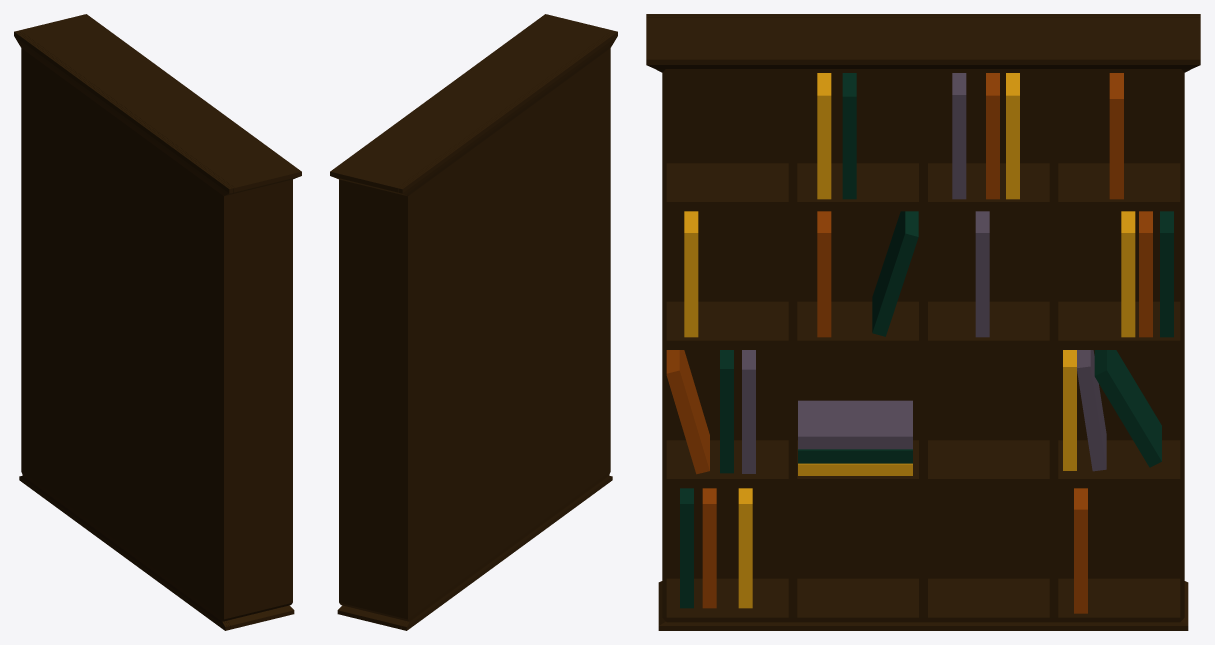
The model's file is biblio.fbx.
3 renders of one model, left to right at view 1: azimuth 30°, elevation 25°; view 2: azimuth 150°, elevation 25°; view 3: azimuth 270°, elevation 25°, orthographic. The views are drawn at different scales.
Parts seen in each view (by area): view 1: case; view 2: case; view 3: case, Cube.024, Cube.021, Cube.002, Cube.009, Cube.020, Cube.003, Cube.004, Cube.008, Cube.011, Cube.012, Cube.014 (+15 smaller).
Part boxes in pixels (x1,y1,x2,y2): case: (14, 14, 301, 630); case: (330, 14, 617, 630); case: (646, 14, 1200, 630); Cube.024: (798, 400, 912, 449); Cube.021: (1094, 350, 1161, 467); Cube.002: (872, 211, 918, 336); Cube.009: (666, 350, 709, 474); Cube.020: (1077, 350, 1106, 471); Cube.003: (684, 211, 698, 337); Cube.004: (1121, 211, 1135, 337); Cube.008: (975, 211, 989, 337); Cube.011: (1109, 73, 1123, 199); Cube.012: (952, 73, 966, 199); Cube.014: (817, 211, 831, 337).
Bounding box in the file's own units: 185 × 1086 × 953.
